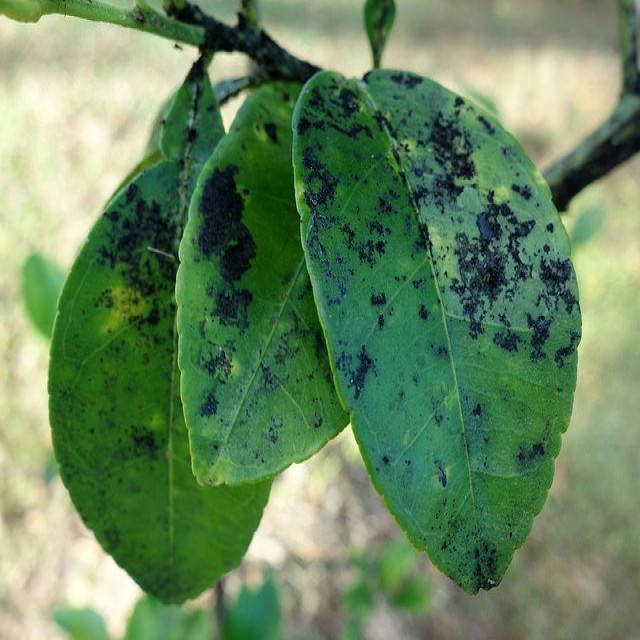Sooty Mold: (31, 83, 579, 470)
